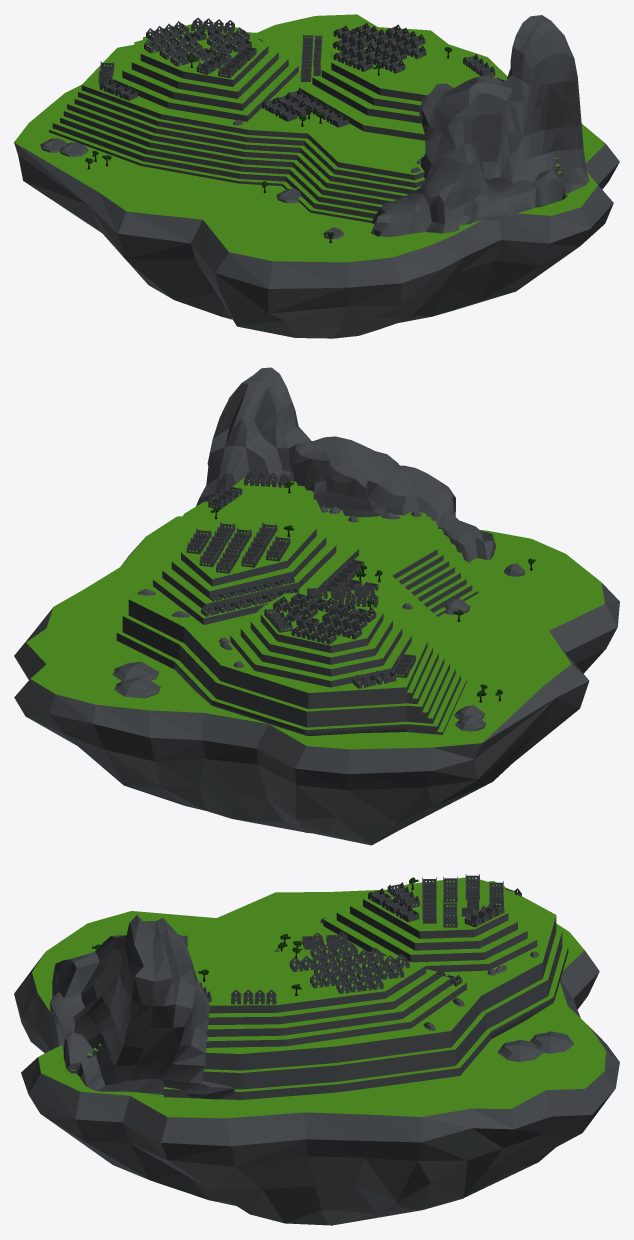
Rendered from 08 MACHU PICCHU.FBX.
3 views of the same model, one above another, from view 1: azimuth 30°, elevation 25°; view 2: azimuth 150°, elevation 25°; view 3: azimuth 270°, elevation 25° (orthographic). The views are drawn at different scales.
Visible parts, largest first — view 1: Line001, Mountain_desert_007, Group001, Line002, Object112, Line004, Line003, Object110, Object111; view 2: Line001, Group001, Line002, Mountain_desert_007, Object112, Line004, Line003, Object110, Object111, Stone_lit_033; view 3: Line001, Group001, Mountain_desert_007, Object112, Line002, Line004, Object111, Line003, Object110, Stone_lit_034, Stone_lit_033.
Part boxes in pixels (x1,y1,x2,y2): Line001: (14,142,619,338); Mountain_desert_007: (370,15,589,237); Group001: (14,14,605,262); Line002: (49,32,566,220); Object112: (49,85,567,222); Line004: (299,27,505,134); Line003: (113,24,298,115); Object110: (113,46,298,121); Object111: (299,52,426,140); Line001: (14,540,619,845); Group001: (26,516,604,749); Line002: (117,501,477,732); Mountain_desert_007: (196,367,495,563); Object112: (116,549,478,736); Line004: (153,478,358,618); Line003: (230,589,411,680); Object110: (230,613,411,687); Object111: (153,529,358,624); Stone_lit_033: (114,676,160,698); Line001: (14,950,619,1225); Group001: (32,889,606,1118); Mountain_desert_007: (49,915,234,1099); Object112: (70,916,568,1099); Line002: (71,881,567,1091); Line004: (196,947,466,1041); Object111: (206,966,466,1047); Line003: (323,877,537,965); Object110: (323,899,537,971); Stone_lit_034: (497,1039,543,1061); Stone_lit_033: (530,1031,573,1053).
Size of the model in its own units: 95.17 by 68.88 by 102.
